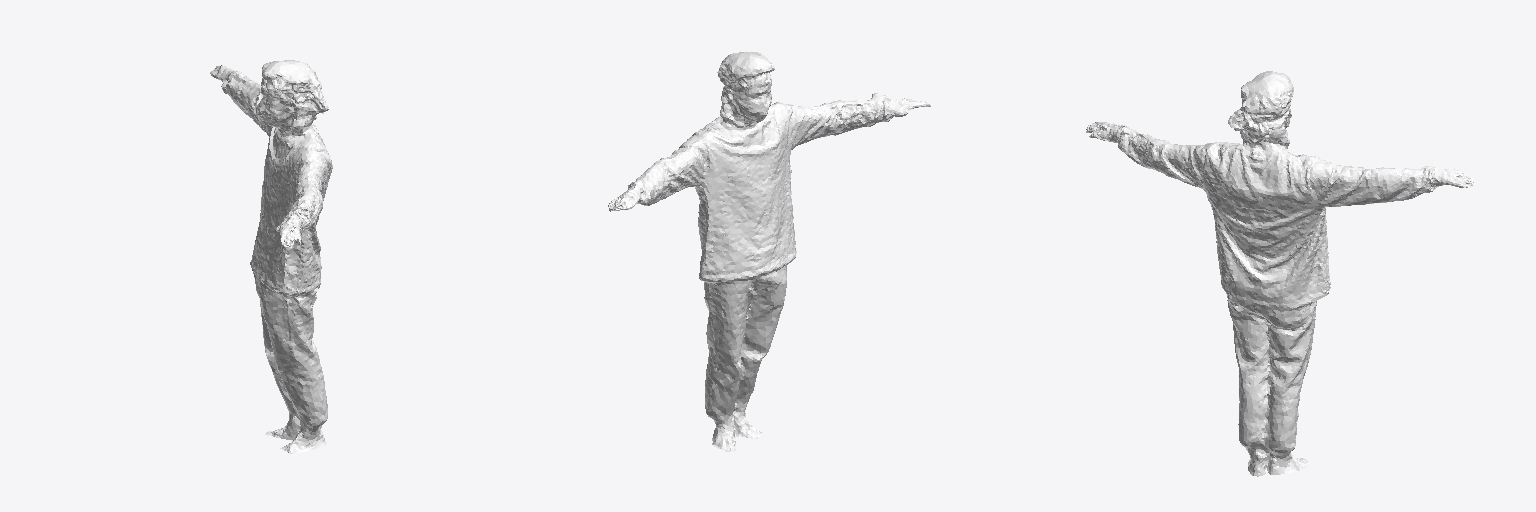
File: edric.obj
3 renders of one model, left to right at view 1: azimuth 30°, elevation 25°; view 2: azimuth 150°, elevation 25°; view 3: azimuth 270°, elevation 25°, orthographic.
Size of the model in its own units: 0.6004 by 1.61 by 1.47.